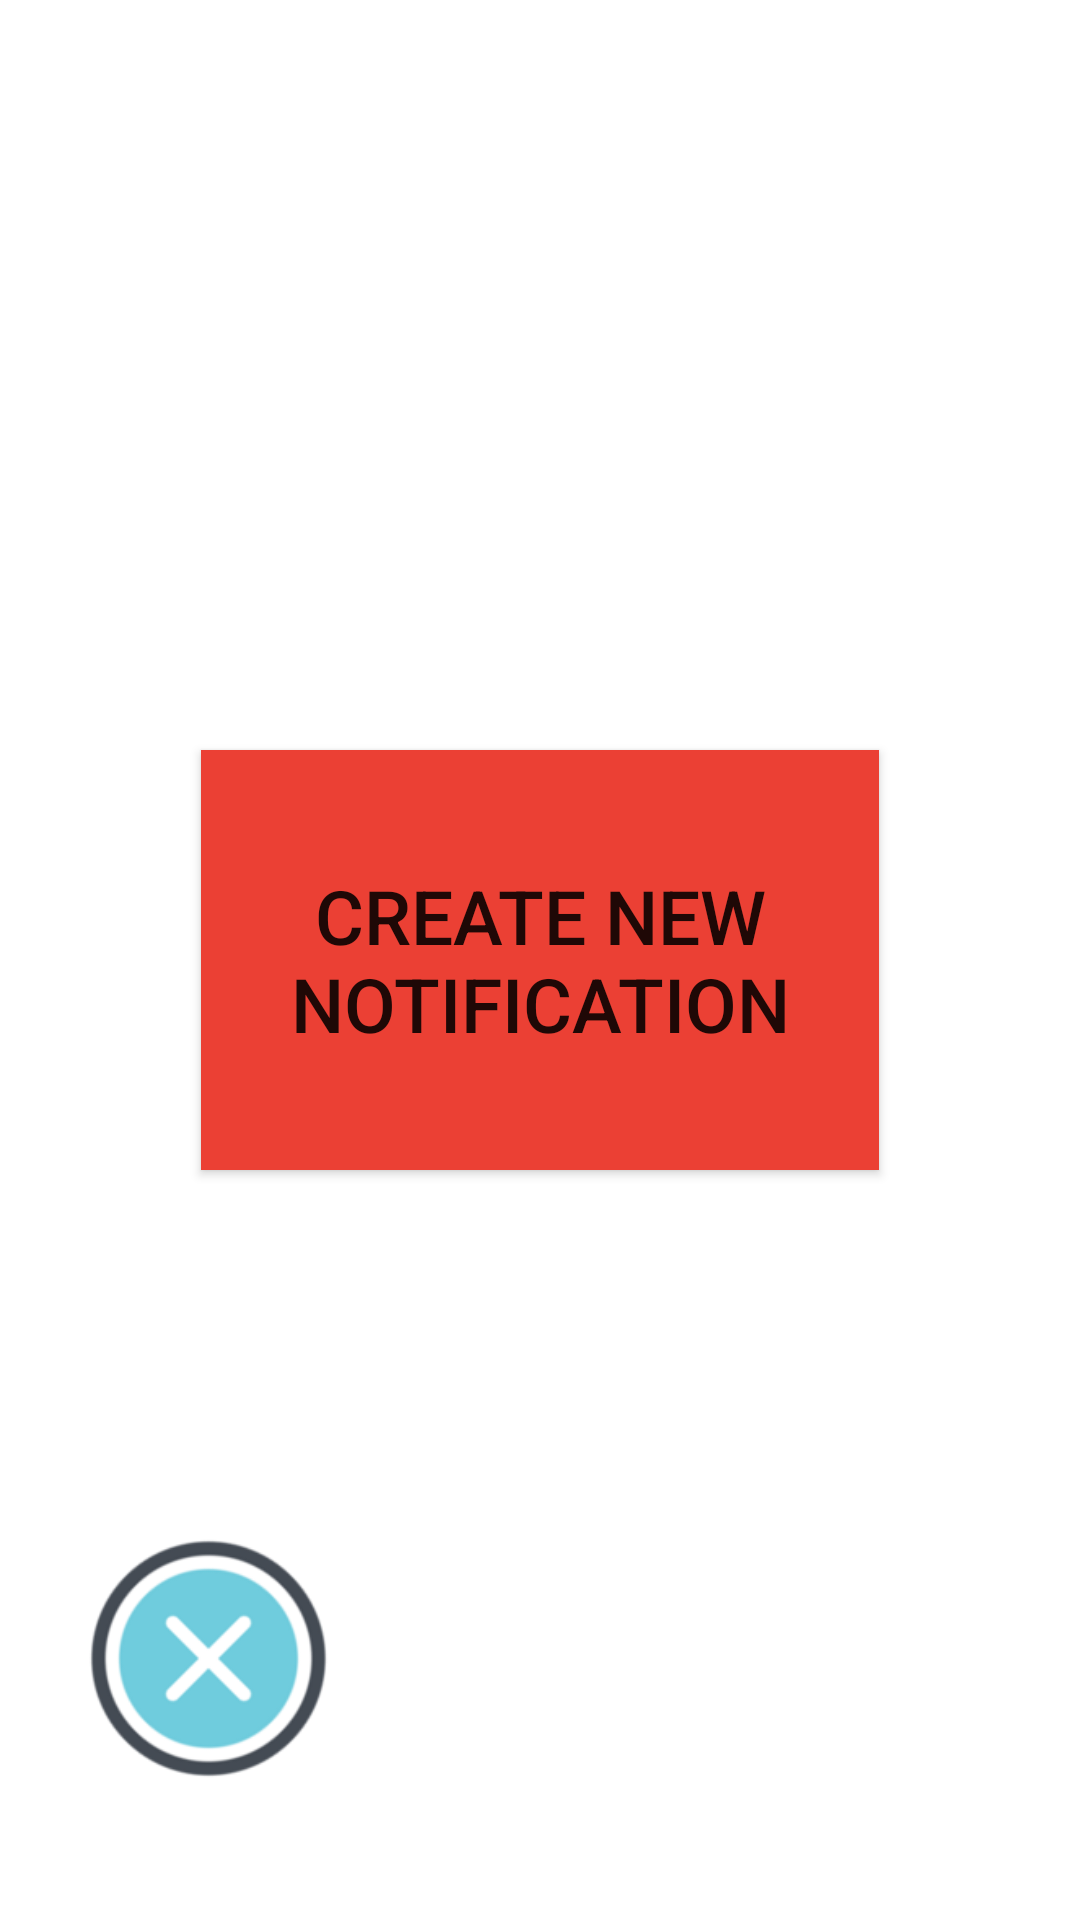

Screen size 1080x1920. Icon name, then its box in pixels as (x1, y1, x2, y2):
del: (91, 1541, 326, 1776)
